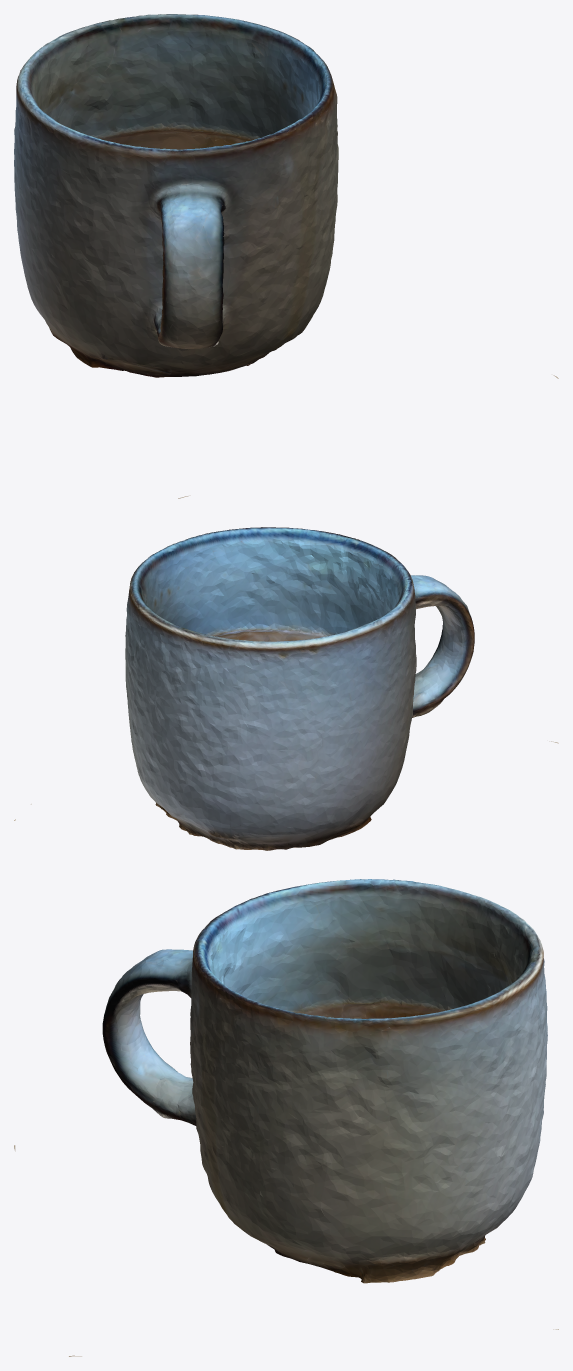
File: mug_2.glb
3 views of the same model, one above another, from view 1: azimuth 30°, elevation 25°; view 2: azimuth 150°, elevation 25°; view 3: azimuth 270°, elevation 25° (orthographic). The views are drawn at different scales.
Bounding box in the file's own units: 0.1404 × 0.0861 × 0.1505.
1 material, 1 textured.
